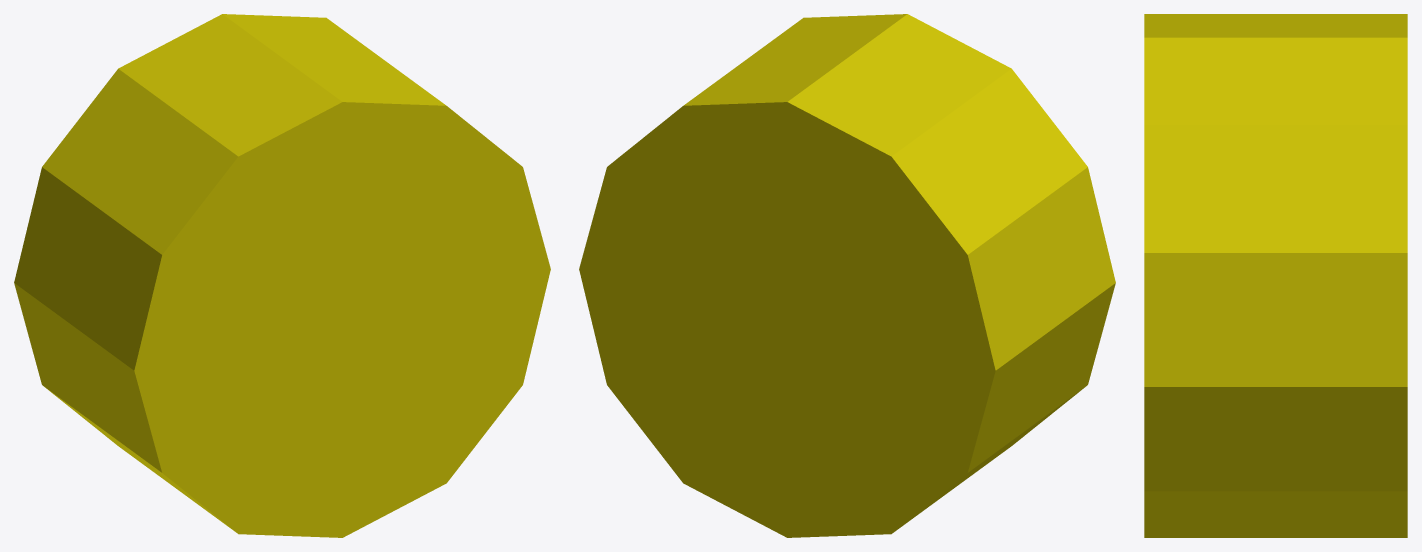
The model's file is wheel.dae.
3 renders of one model, left to right at view 1: azimuth 30°, elevation 25°; view 2: azimuth 150°, elevation 25°; view 3: azimuth 270°, elevation 25°, orthographic. The views are drawn at different scales.
Visible parts, largest first — view 1: Cylinder_002; view 2: Cylinder_002; view 3: Cylinder_002.
Part boxes in pixels (left/top/right/bottom): Cylinder_002: left=14, top=14, right=550, bottom=537; Cylinder_002: left=579, top=14, right=1115, bottom=537; Cylinder_002: left=1144, top=14, right=1407, bottom=537.
Bounding box in the file's own units: 2.2 × 1.1 × 2.2.
